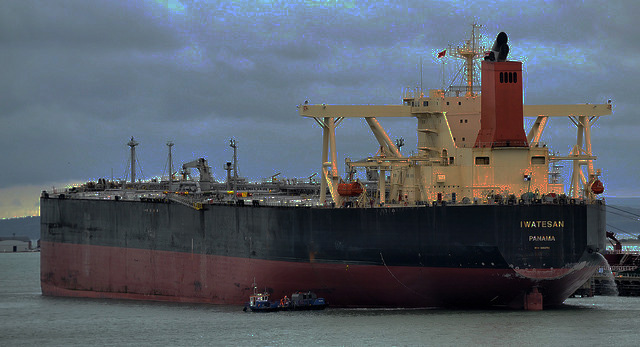boat: (246, 276, 327, 317)
tanker: (33, 20, 610, 312)
